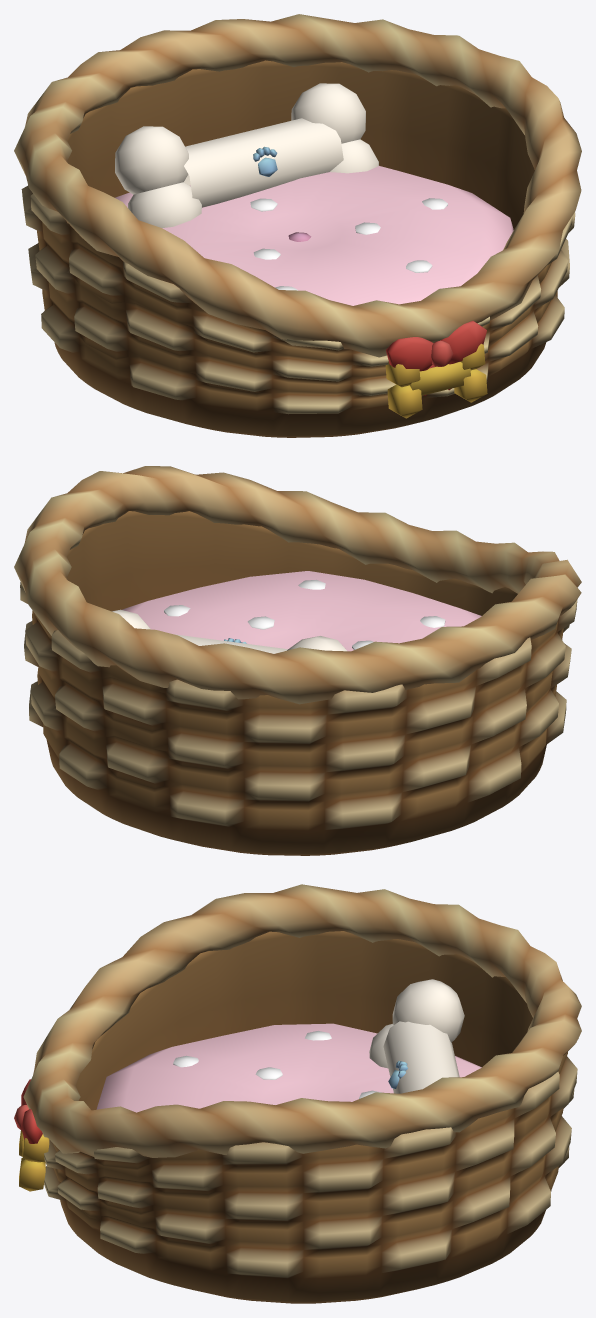
File: furn-pupBasket.glb
The picture shows the model from 3 angles, top to bottom: view 1: azimuth 30°, elevation 25°; view 2: azimuth 150°, elevation 25°; view 3: azimuth 270°, elevation 25°; orthographic projection.
Visible parts, largest first — view 1: body, cloth; view 2: body, cloth; view 3: body, cloth.
Part boxes in pixels (bbox=[...]): body: bbox=[14, 14, 581, 437]; cloth: bbox=[115, 83, 513, 305]; body: bbox=[14, 466, 581, 855]; cloth: bbox=[112, 571, 481, 653]; body: bbox=[14, 884, 581, 1303]; cloth: bbox=[96, 979, 481, 1112].
Bounding box in the file's own units: 0.9054 × 0.3902 × 0.9215.
